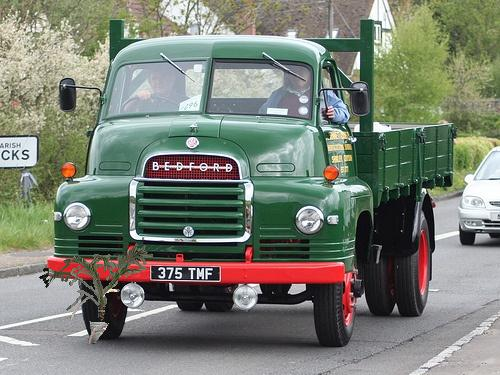tampered: (40, 244, 153, 344)
